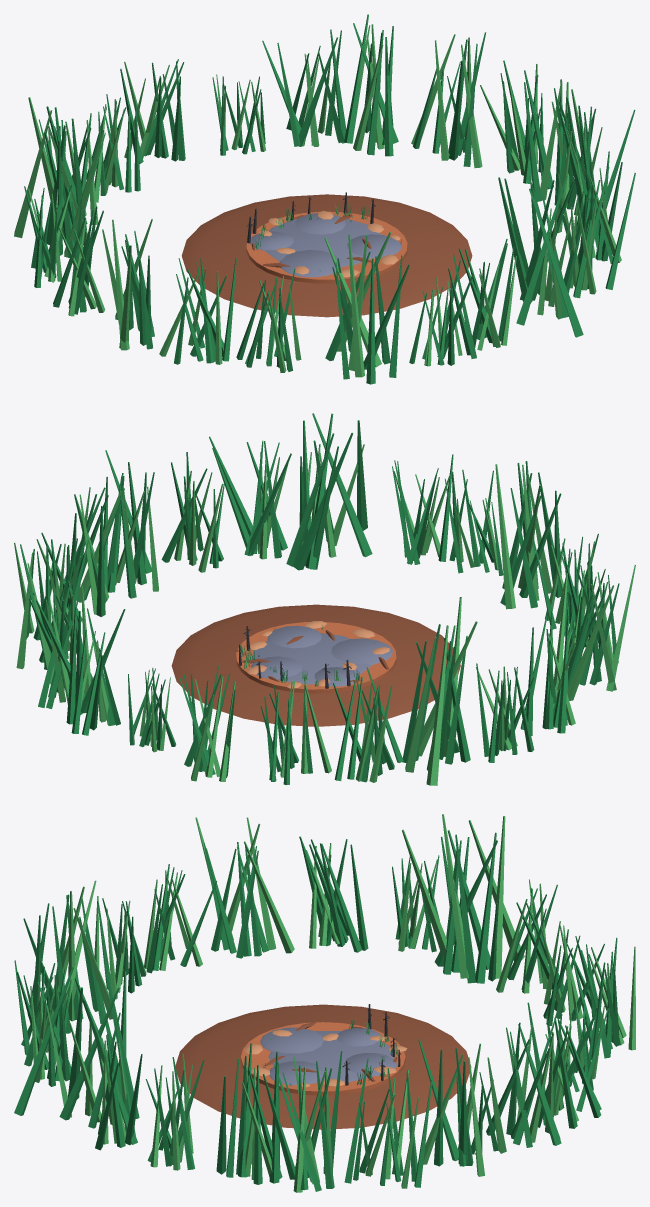
The model's file is mire_snapper.glb.
The picture shows the model from 3 angles, top to bottom: view 1: azimuth 30°, elevation 25°; view 2: azimuth 150°, elevation 25°; view 3: azimuth 270°, elevation 25°; orthographic projection. The views are drawn at different scales.
Visible parts, largest first — view 1: MireSnapperGround; view 2: MireSnapperGround; view 3: MireSnapperGround.
Part boxes in pixels (box(x1,y1,x2,y2)): MireSnapperGround: box(14, 14, 635, 384); MireSnapperGround: box(14, 413, 635, 785); MireSnapperGround: box(14, 814, 635, 1192).
Size of the model in its own units: 45.16 by 11.88 by 45.31.
1 material, 1 textured.
